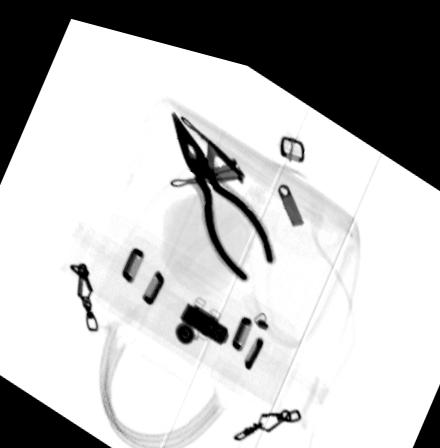Pliers: (169, 100, 276, 270)
